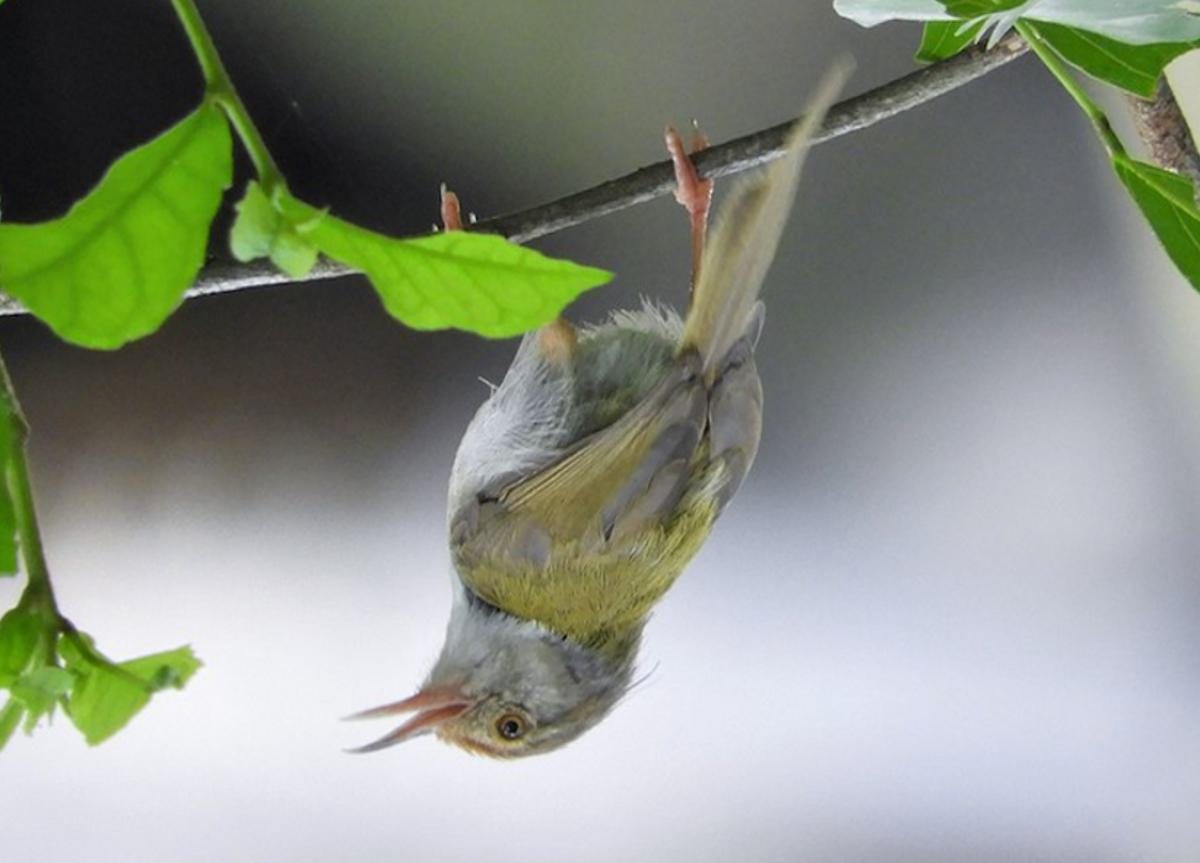tailorbird: (358, 92, 903, 788)
